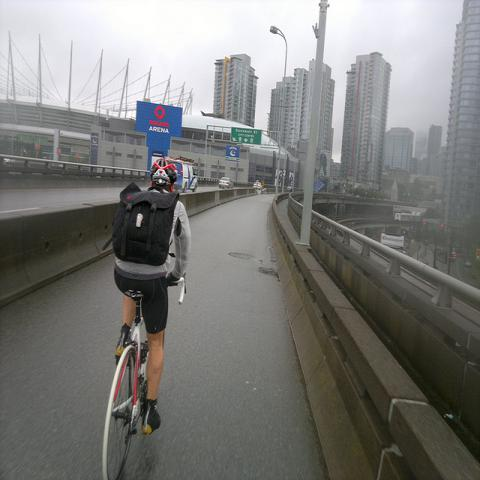car: (166, 160, 198, 196), (219, 175, 235, 188), (253, 181, 262, 189)
